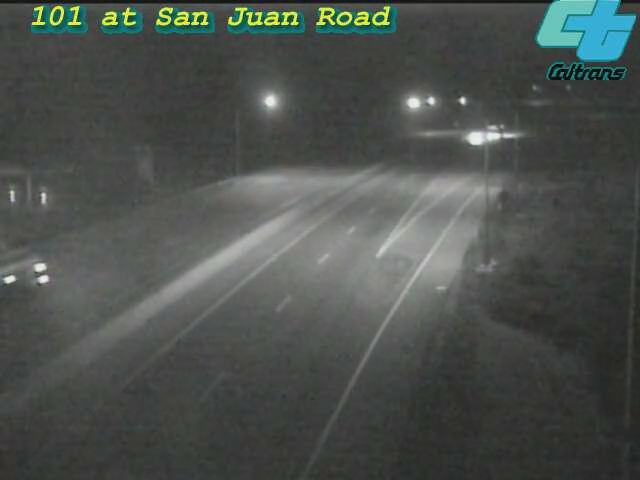vehicle: (1, 241, 56, 321), (475, 106, 525, 156), (451, 112, 501, 162)
